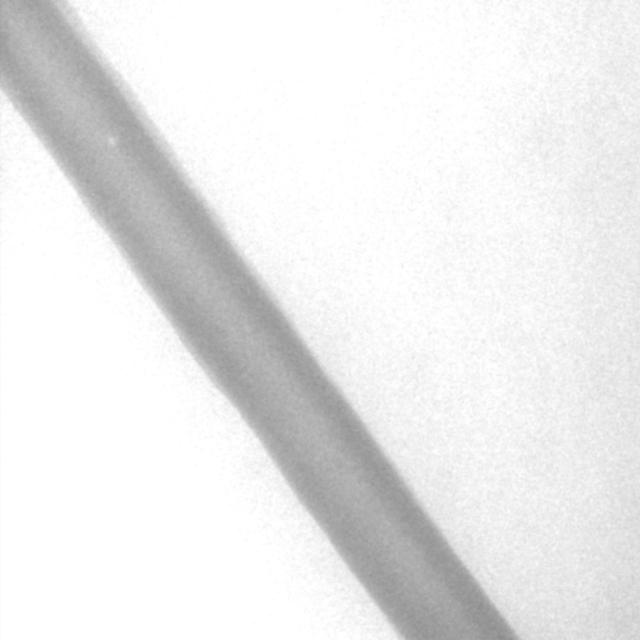air hole: (106, 133, 118, 151)
